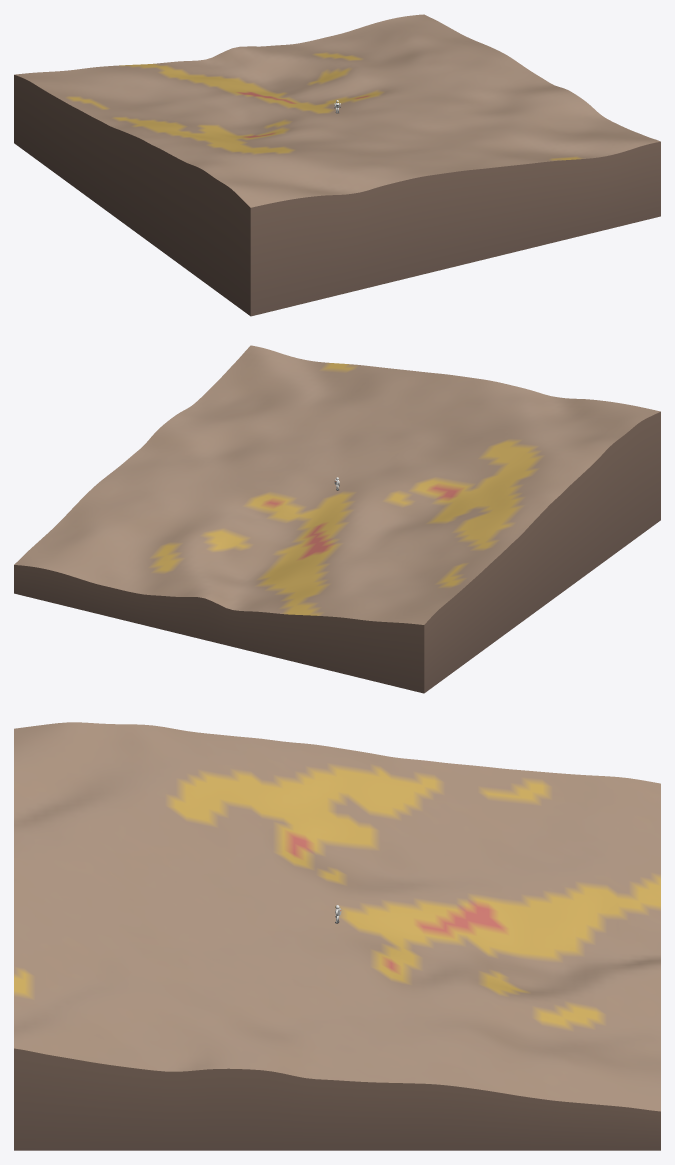
Rendered from wp2-hollow-ridge.glb.
3 renders of one model, top to bottom at view 1: azimuth 30°, elevation 25°; view 2: azimuth 150°, elevation 25°; view 3: azimuth 270°, elevation 25°, orthographic. The views are drawn at different scales.
Parts seen in each view (by area): view 1: wp2-hollow-ridge; view 2: wp2-hollow-ridge; view 3: wp2-hollow-ridge.
Part boxes in pixels (x1,y1,x2,y2): wp2-hollow-ridge: (14, 14, 660, 316); wp2-hollow-ridge: (14, 345, 660, 693); wp2-hollow-ridge: (14, 722, 660, 1150).
Size of the model in its own units: 59.94 by 15.83 by 59.94.
